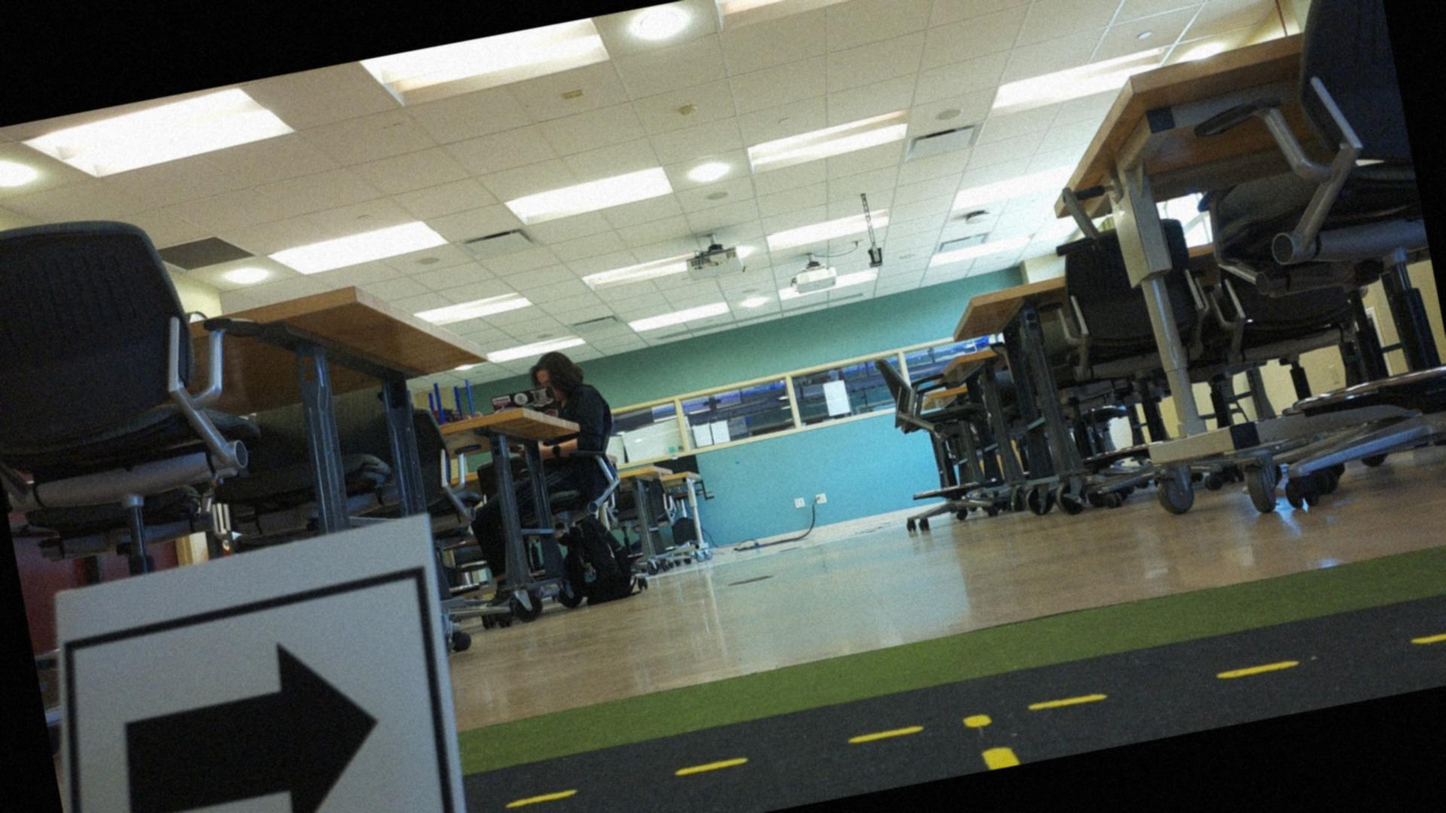turnright: (60, 577, 468, 812)
yellowline: (505, 610, 1445, 812), (953, 703, 1025, 775)
